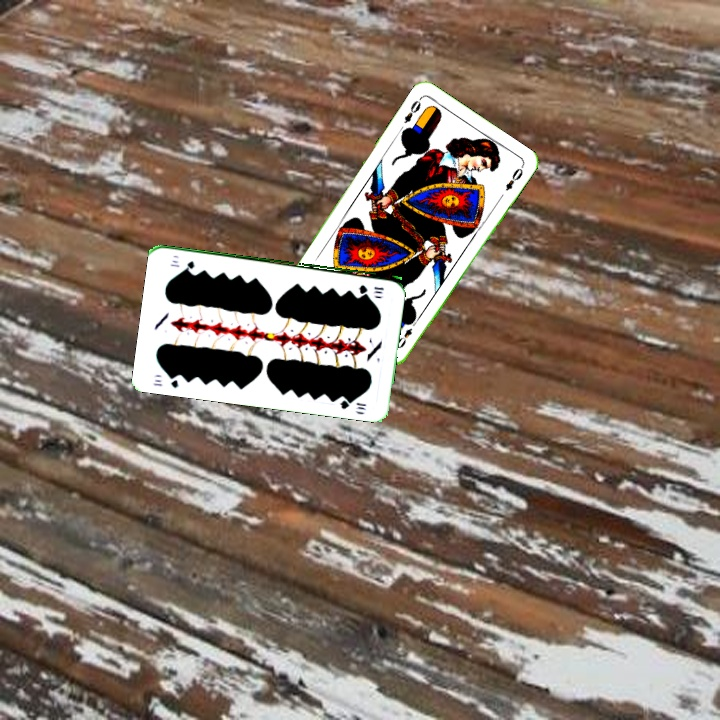EO: (392, 317, 419, 351), (399, 93, 424, 126)
G10: (149, 371, 181, 390), (355, 281, 386, 296)
